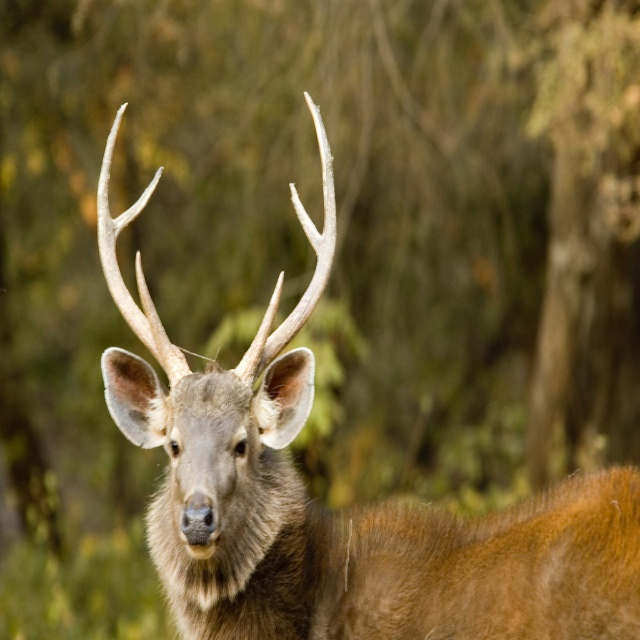Deer: (99, 90, 640, 639)
